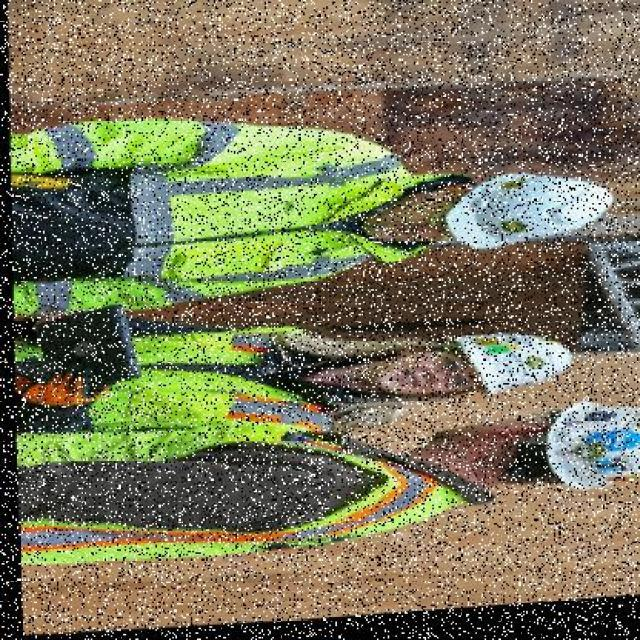helmet: (425, 171, 617, 265), (423, 329, 565, 411), (537, 403, 639, 505)
vest: (5, 133, 401, 322), (13, 420, 449, 574), (9, 321, 311, 459)
